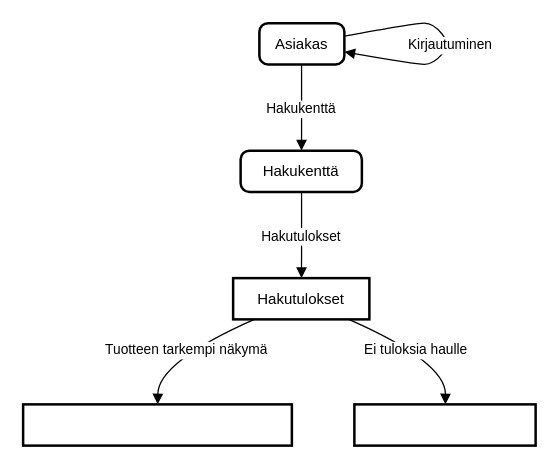
Image size: 558x468. Some labels were removed from this diagram. Each missing label, with the centre of its shape:
Ei_tuloksia_haulle: the point at 444,424
Tuotteen_tarkempi_näkymä: the point at 156,424
